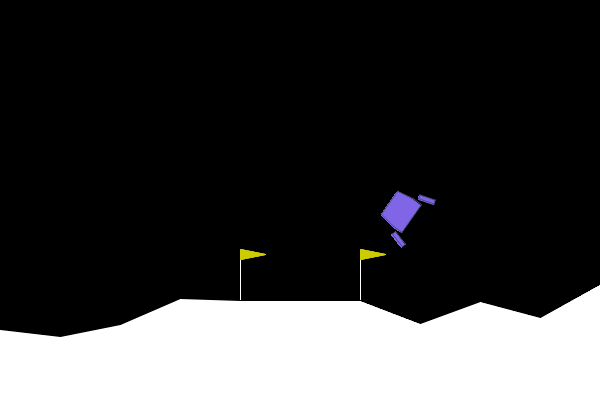lander: (370, 178, 437, 250)
